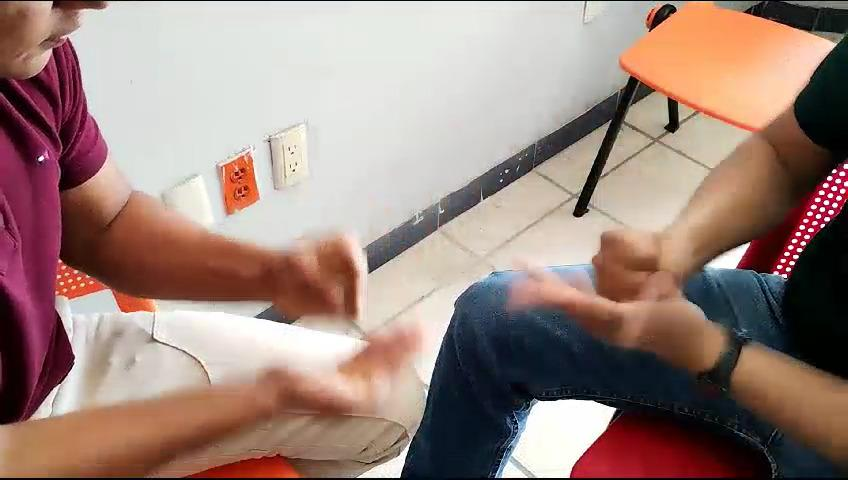Stone: (583, 211, 712, 331), (267, 227, 377, 331)
